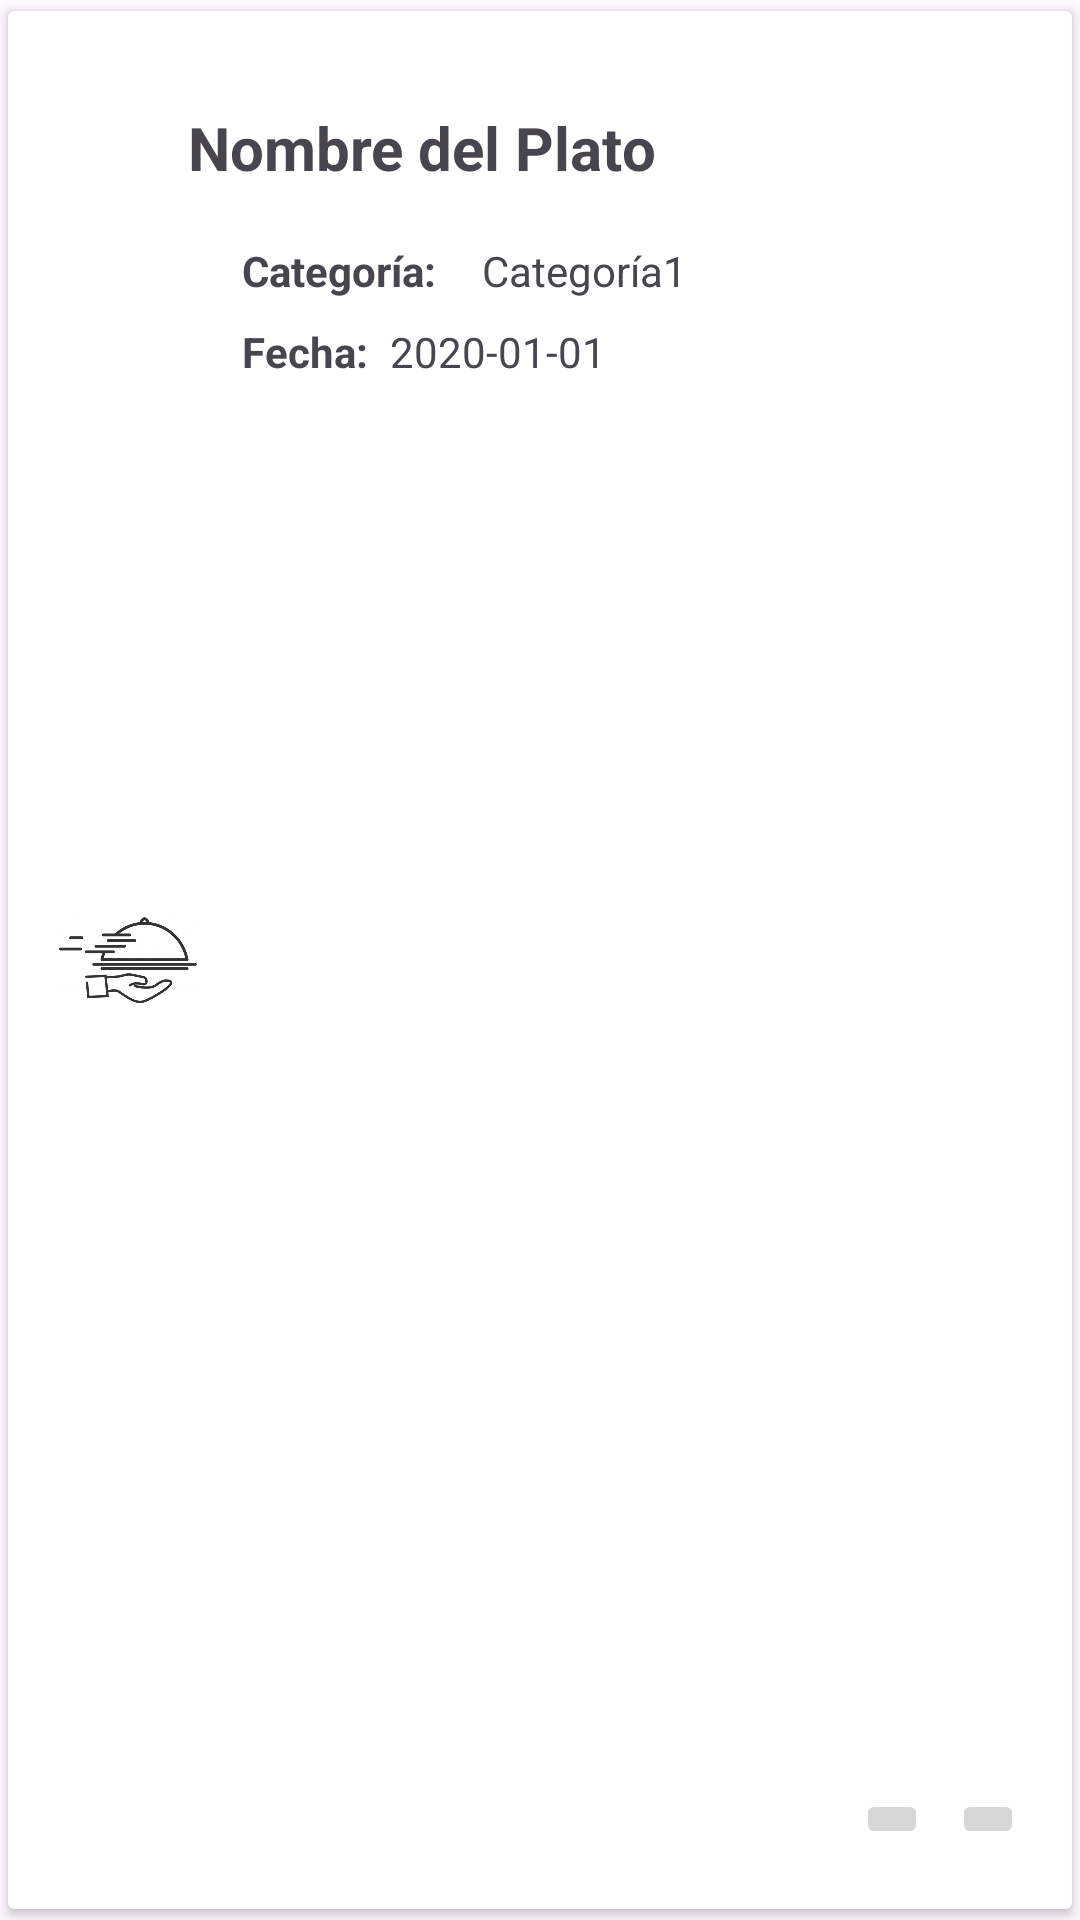

Icon bounding boxes for this 1080*1920 phone screenshot, format (x1, y1, x2, y2):
plato: (59, 917, 197, 1003)
